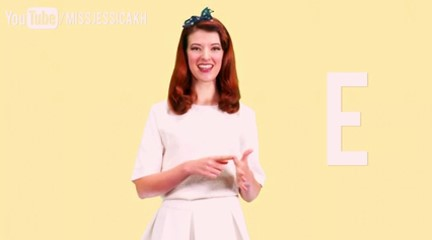E: (182, 142, 263, 198)
